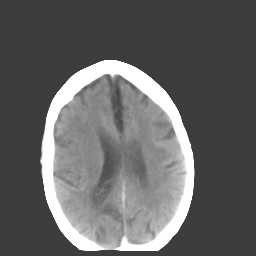ischemic: (58, 109, 103, 227)
